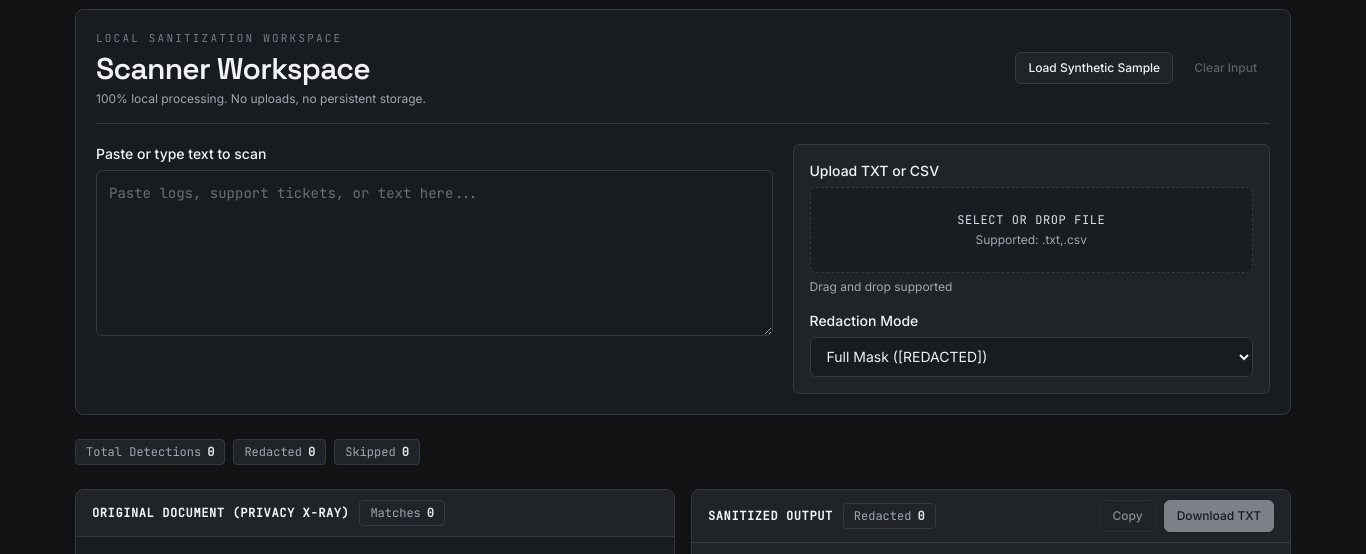
Phase 3 ScannerWorkspace › switches to Consistent Pseudonymization mode
Click the button "Load Synthetic Sample": (1094, 68) 1015,52 -> 1173,84
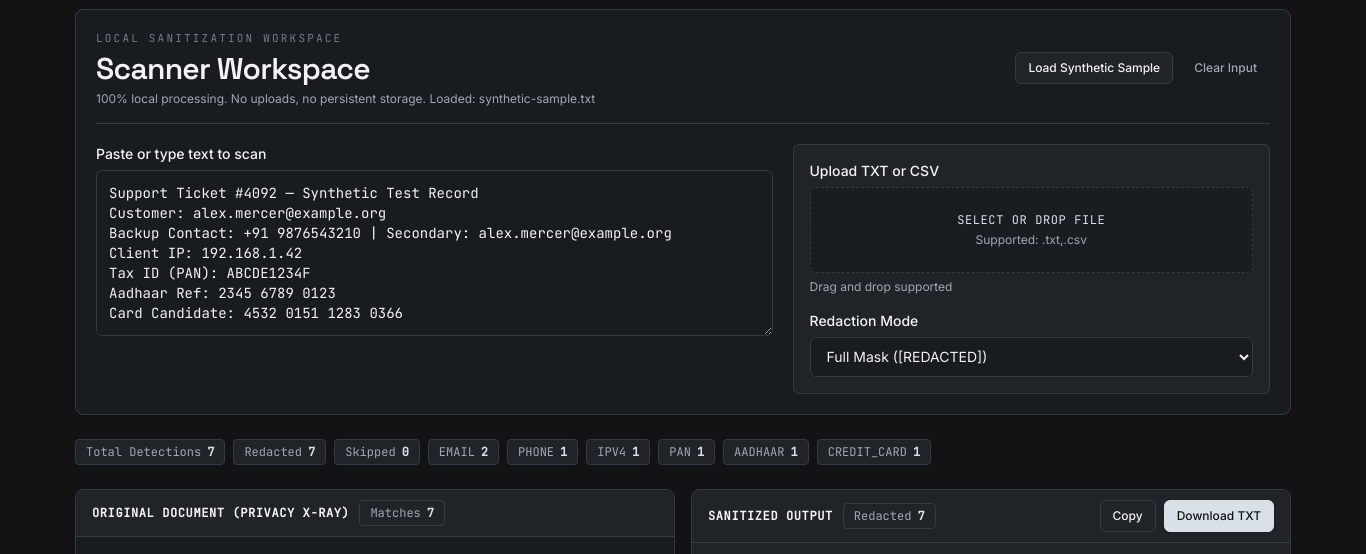
Select "Consistent Pseudonymization" in the dropdown labelled "Redaction Mode": (1031, 356) 810,336 -> 1253,376
(page scrolled)
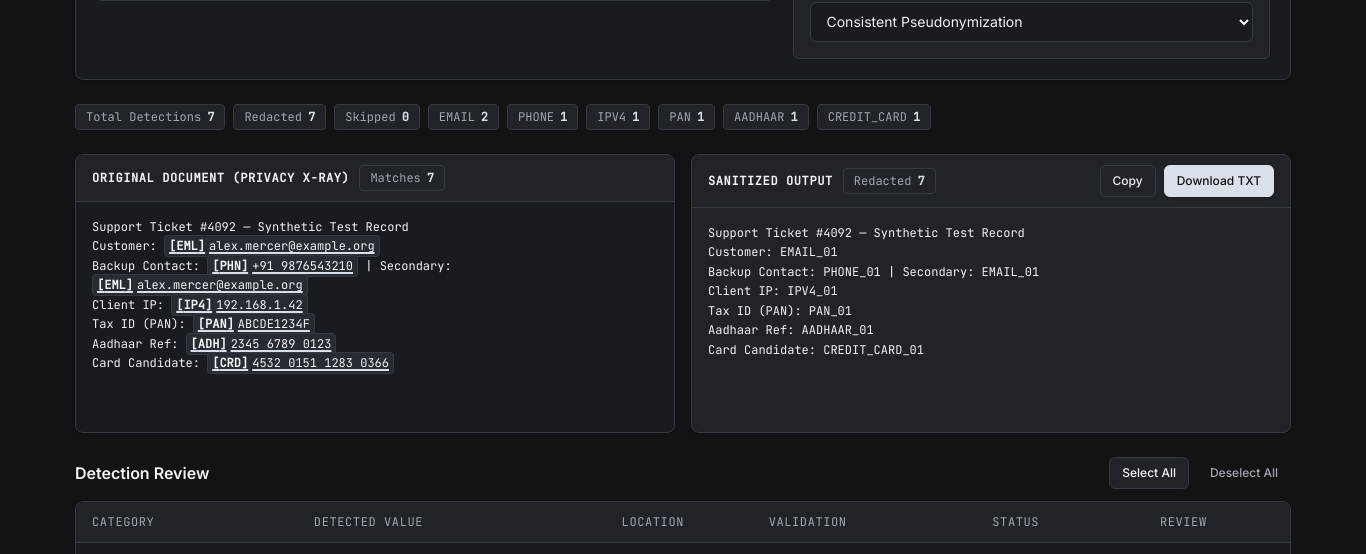
Check: the text "EMAIL_01" is shown, box 708,224 -> 1039,358
